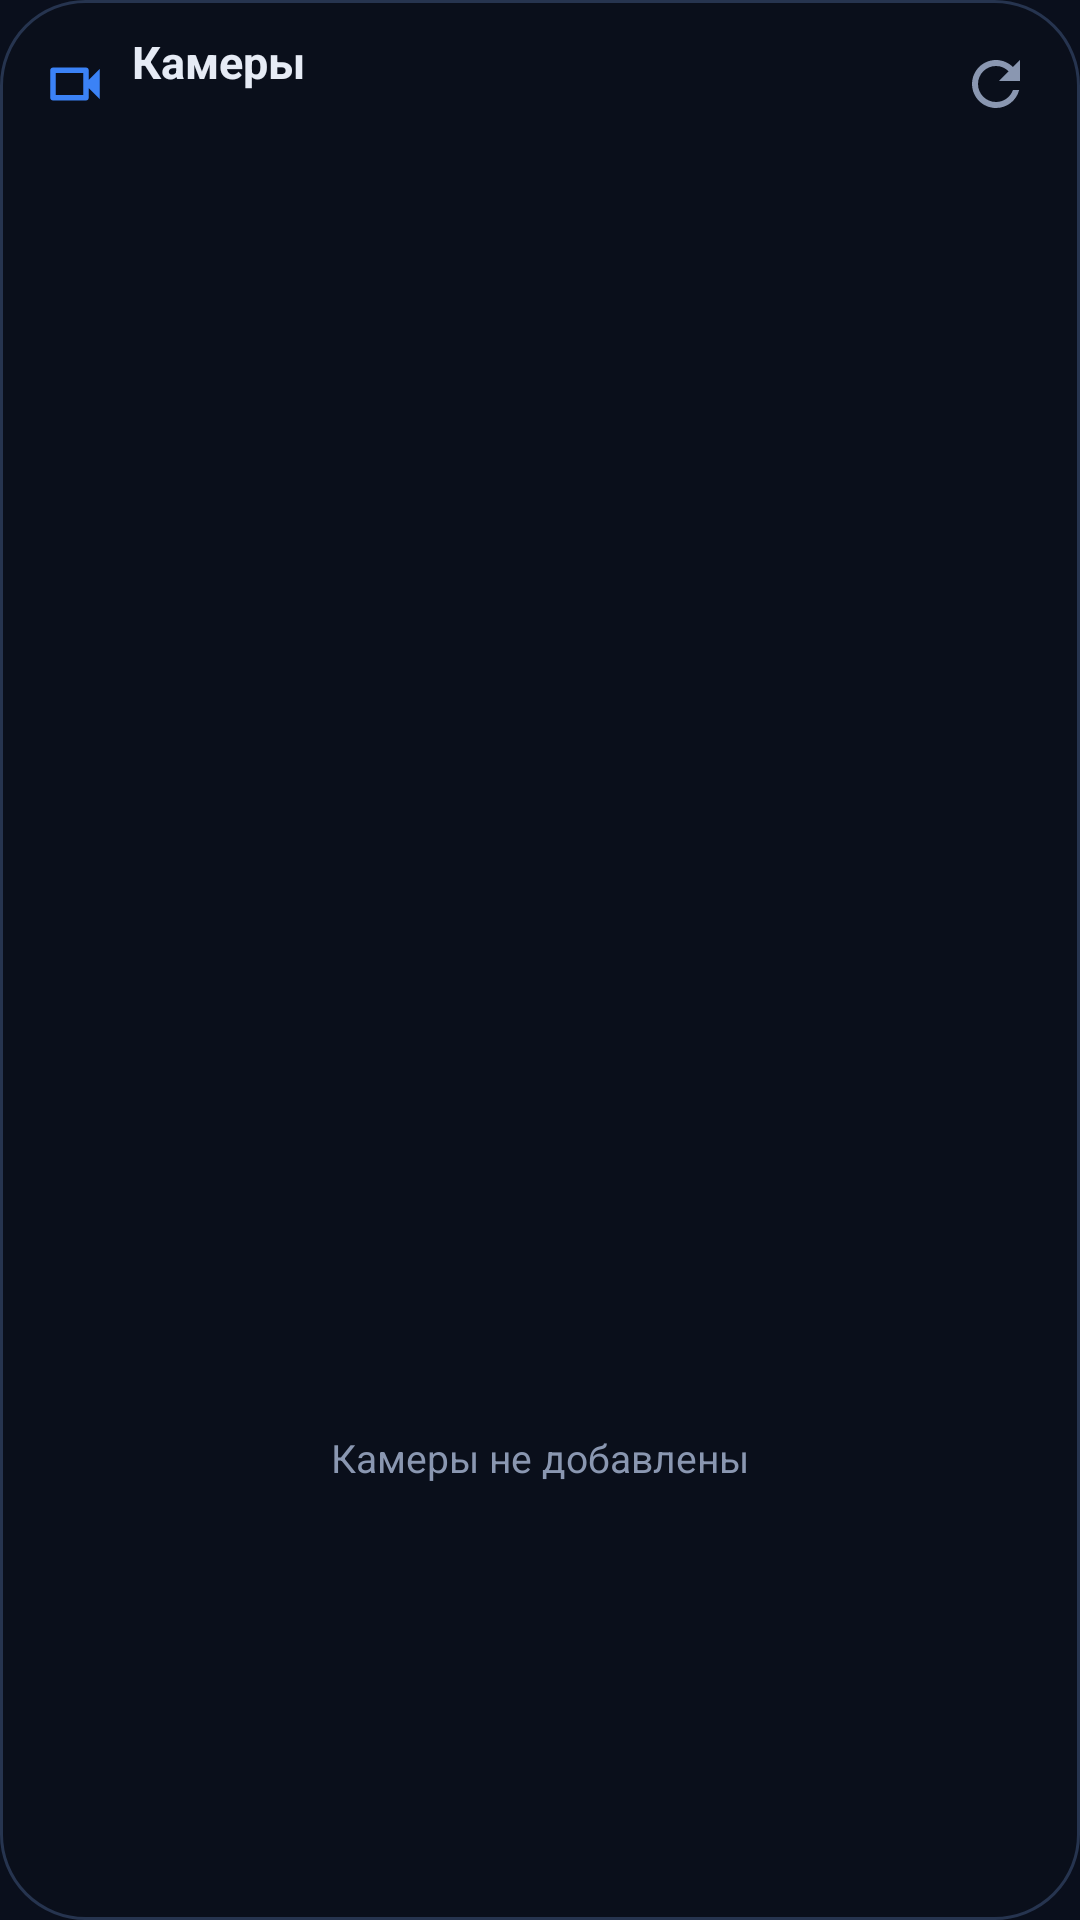

Screen size 1080×1920. Icon name, then its box in pixels as box=[x1, y1, x2, y2]:
widget camera: box=[50, 67, 100, 101]
Обновить статусы камер: box=[972, 60, 1020, 108]
